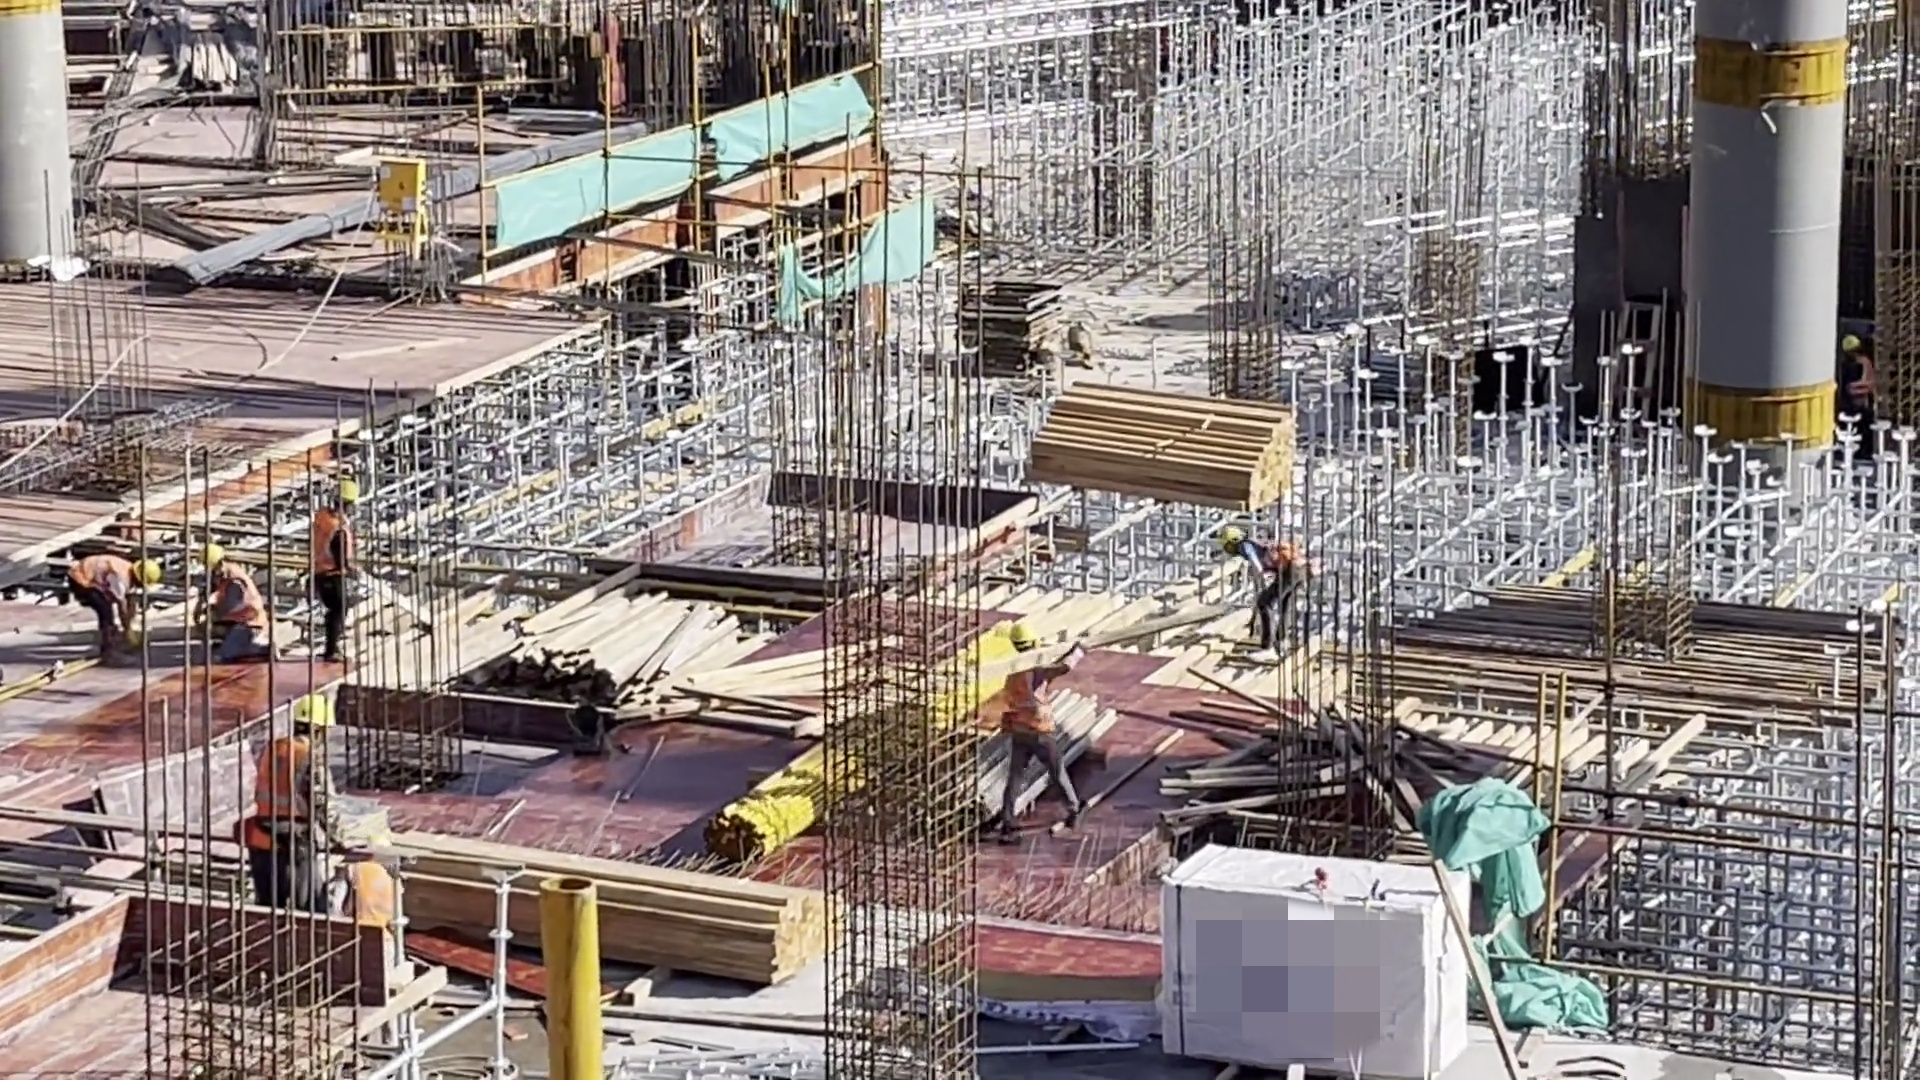ebox: (370, 151, 424, 266)
helmet: (126, 539, 170, 601), (293, 689, 332, 734), (1214, 517, 1248, 564), (203, 535, 236, 577), (330, 470, 361, 509), (1009, 617, 1037, 654)
person: (993, 624, 1090, 833), (244, 690, 332, 906), (67, 543, 175, 650), (187, 537, 278, 662), (308, 483, 373, 654), (1210, 523, 1312, 630), (334, 827, 401, 928)
vest: (252, 742, 318, 849), (1005, 656, 1065, 728), (347, 860, 398, 939), (63, 553, 142, 601), (314, 517, 365, 583), (201, 567, 263, 613), (1242, 539, 1307, 579)
wood: (1018, 379, 1293, 518), (494, 580, 764, 704)
